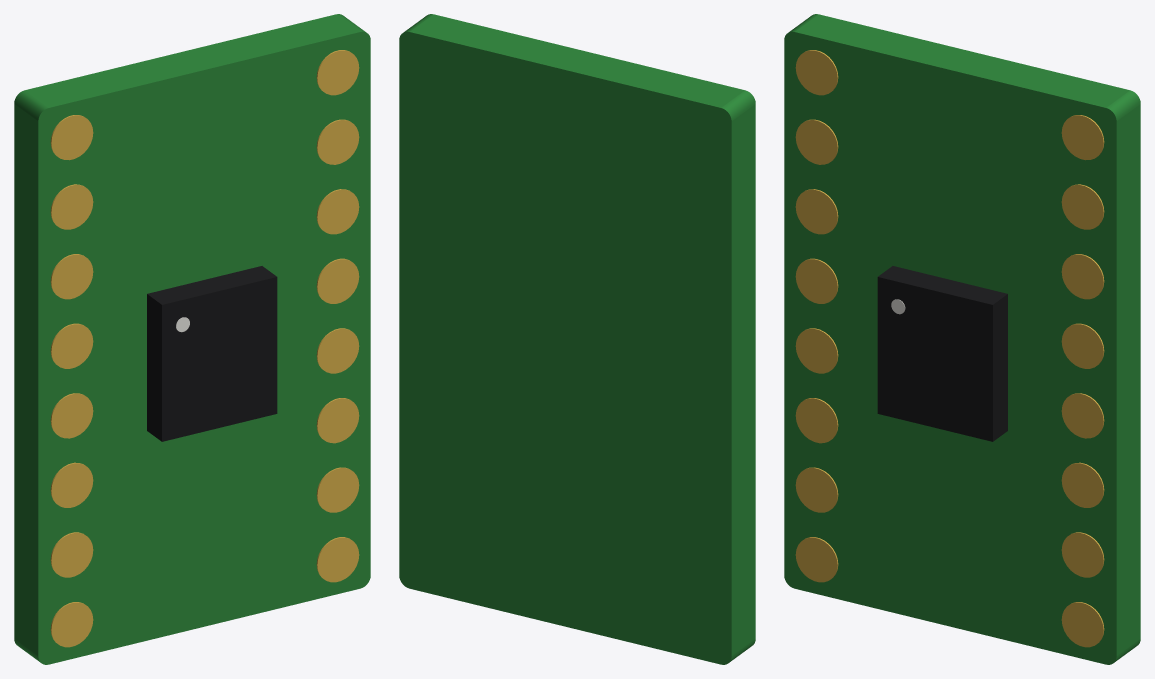
The model's file is pololu-2130-drv8833.glb.
3 views of the same model, side by side, from view 1: azimuth 30°, elevation 25°; view 2: azimuth 150°, elevation 25°; view 3: azimuth 330°, elevation 25° (orthographic).
Visible parts, largest first — view 1: board, chip_3, pads_2_6, pads_1_6, pads_2_1, pads_2_7, pads_2_8, pads_1_1, pads_1_4, pads_1_5, pads_2_2, pads_1_7 (+6 smaller); view 2: board; view 3: board, chip_3, pads_1_6, pads_1_1, pads_2_6, pads_1_7, pads_1_8, pads_2_1, pads_2_4, pads_2_5, pads_1_2, pads_2_7 (+6 smaller).
Part boxes in pixels (x1,y1,x2,y2): board: (14, 14, 370, 664); chip_3: (147, 266, 277, 441); pads_2_6: (316, 189, 359, 234); pads_1_6: (50, 254, 93, 299); pads_2_1: (316, 537, 359, 582); pads_2_7: (316, 119, 359, 164); pads_2_8: (316, 50, 359, 95); pads_1_1: (50, 602, 93, 647); pads_1_4: (50, 393, 93, 438); pads_1_5: (50, 323, 93, 368); pads_2_2: (316, 467, 359, 512); pads_1_7: (50, 184, 93, 229); board: (399, 14, 755, 664); board: (784, 14, 1140, 664); chip_3: (877, 266, 1007, 441); pads_1_6: (795, 189, 838, 234); pads_1_1: (795, 537, 838, 582); pads_2_6: (1061, 254, 1104, 299); pads_1_7: (795, 119, 838, 164); pads_1_8: (795, 50, 838, 95); pads_2_1: (1061, 602, 1104, 647); pads_2_4: (1061, 393, 1104, 438); pads_2_5: (1061, 323, 1104, 368); pads_1_2: (795, 467, 838, 512); pads_2_7: (1061, 184, 1104, 229).
Bounding box in the file's own units: 12.7 × 20.32 × 2.62.
